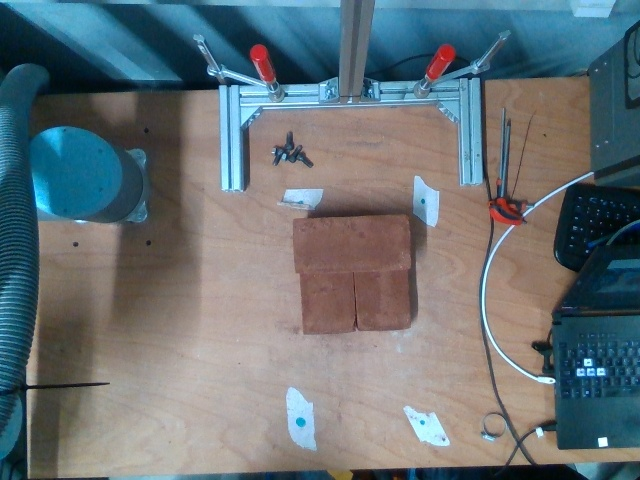brick: (294, 216, 410, 271)
